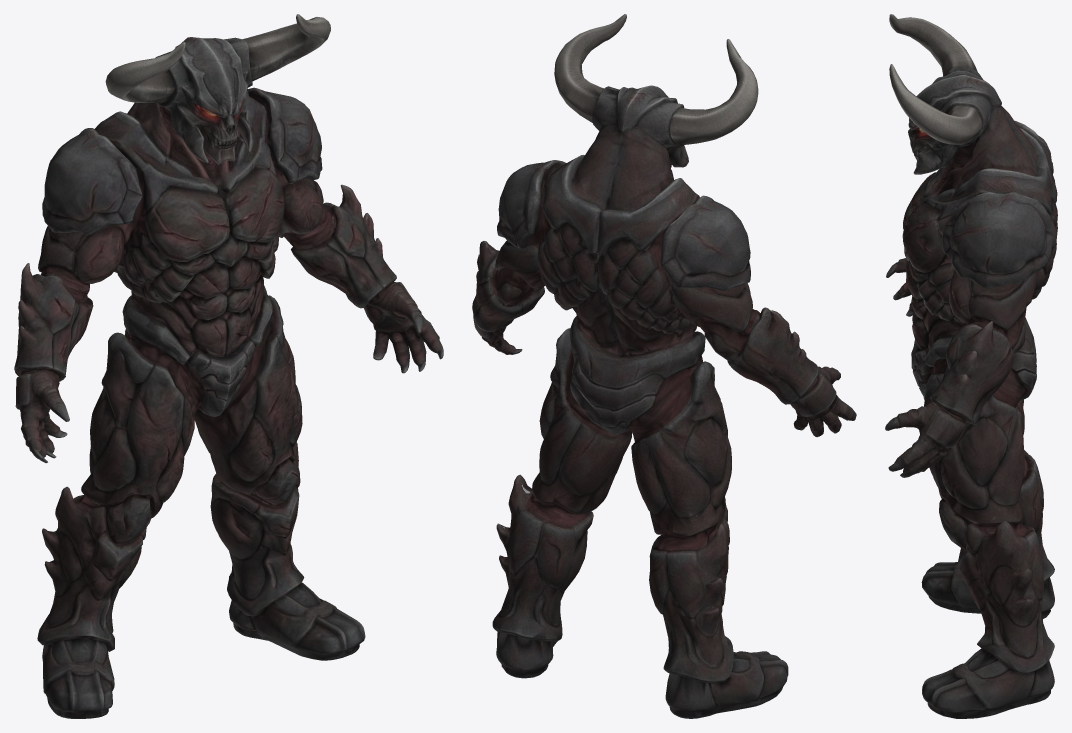
The model's file is kaijin_brute_mixamo_ready.glb.
3 renders of one model, left to right at view 1: azimuth 30°, elevation 25°; view 2: azimuth 150°, elevation 25°; view 3: azimuth 270°, elevation 25°, orthographic. The views are drawn at different scales.
Size of the model in its own units: 1.2 by 1.9 by 0.4832.
Materials: 1 (1 with a texture image).
